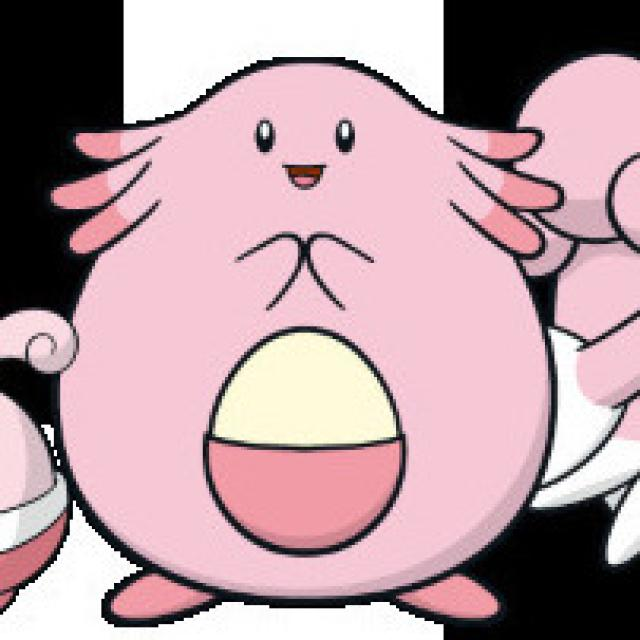Chansey: (55, 59, 559, 630)
